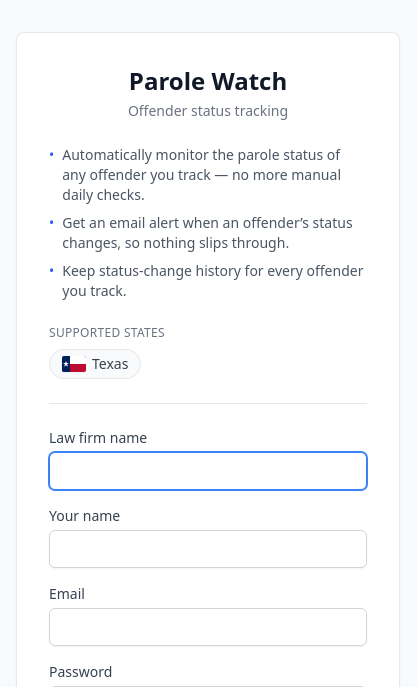
Scenario: Signup › does not submit until the terms are accepted
The width and height of the screenshot is (417, 687).
Type "Doe & Associates" into the field labelled "Law firm name" at (208, 471), box [49,452,367,490]
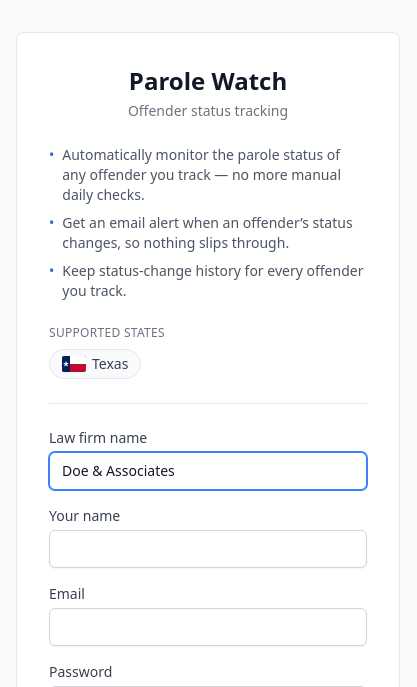
Type "Jane Doe" into the field labelled "Your name" at (208, 549), box [49,530,367,568]
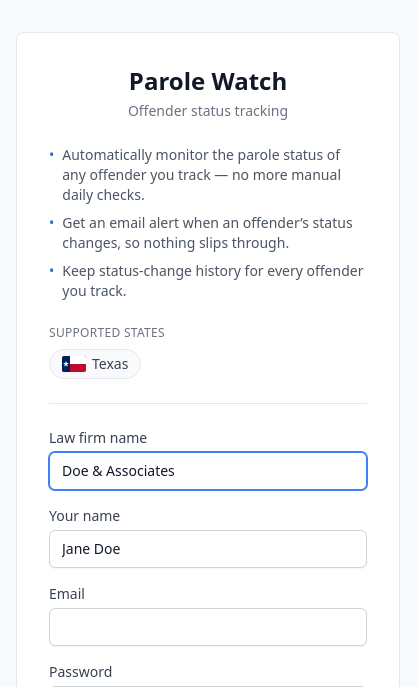
Type "jane@example.com" into the field labelled "Email" at (208, 627), box [49,608,367,646]
(page scrolled)
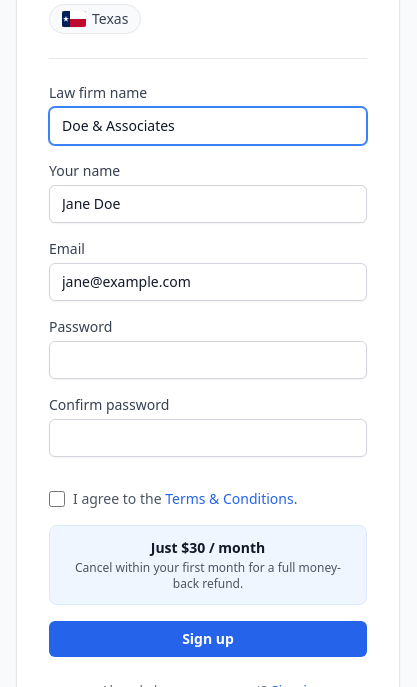
Type "MediumStr0ng!Pass" into the password field labelled "Password" at (208, 360), box [49,341,367,379]
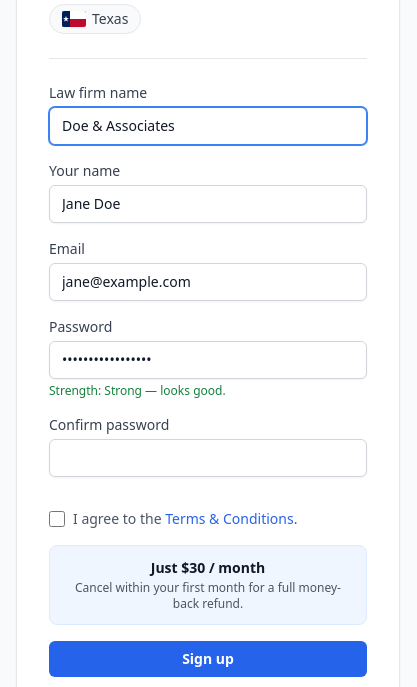
Type "MediumStr0ng!Pass" into the password field labelled "Confirm password" at (208, 458), box [49,439,367,477]
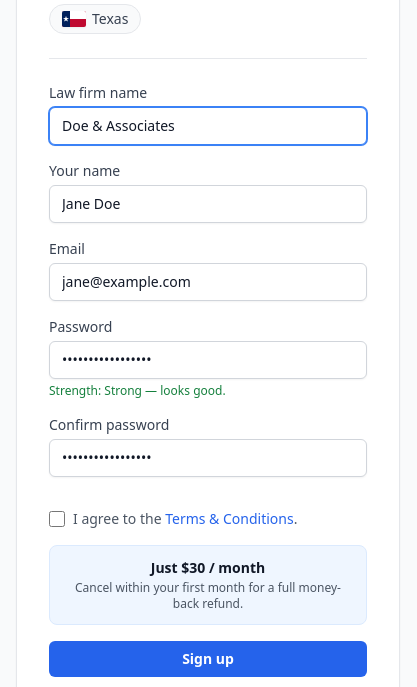
Click the button "Sign up" at (208, 659), box [49,641,367,677]
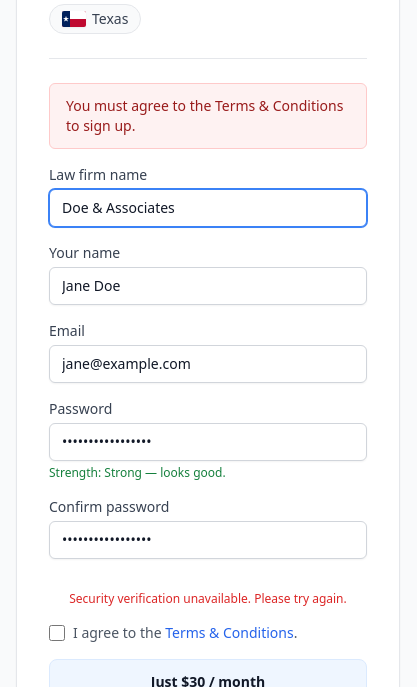
Result: the text "You must agree to the Terms & Conditions to sign up." is shown at [66,96,350,136]
